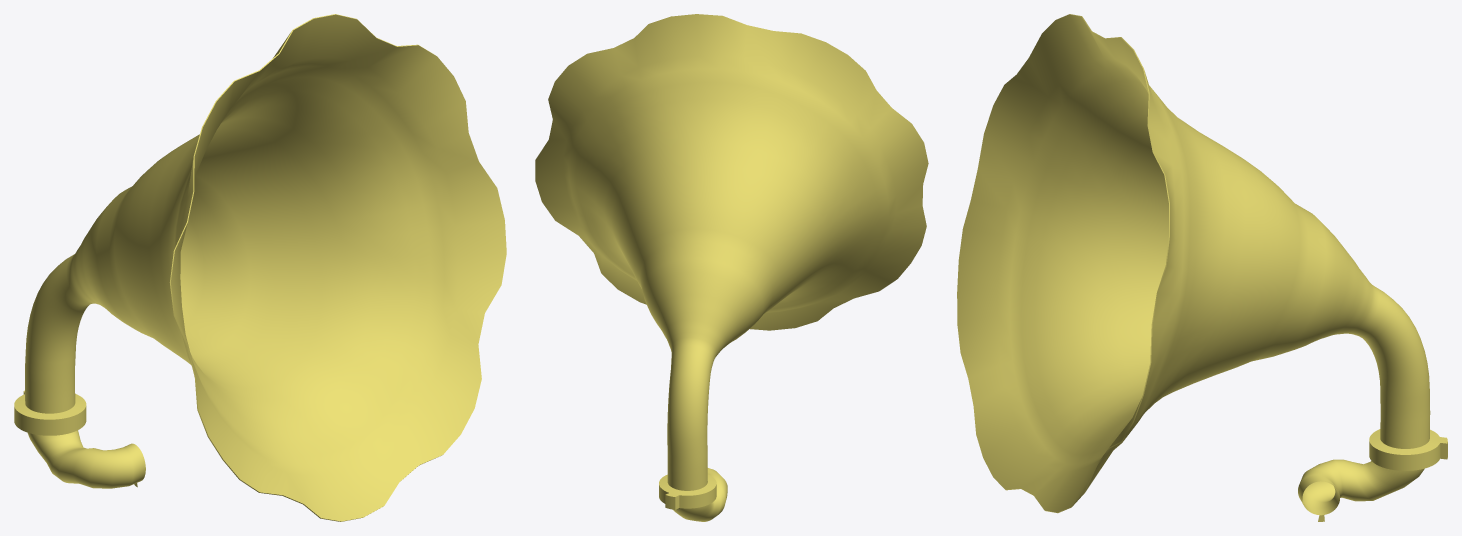
Rendered from horn.fbx.
3 renders of one model, left to right at view 1: azimuth 30°, elevation 25°; view 2: azimuth 150°, elevation 25°; view 3: azimuth 270°, elevation 25°, orthographic. The views are drawn at different scales.
Visible parts, largest first — view 1: horn; view 2: horn; view 3: horn.
Boxes of the visible parts, x1,y1,x2,y2 form: horn: (14,14,506,521); horn: (535,14,928,521); horn: (957,14,1447,521).
Size of the model in its own units: 70.08 by 84.24 by 73.13.
